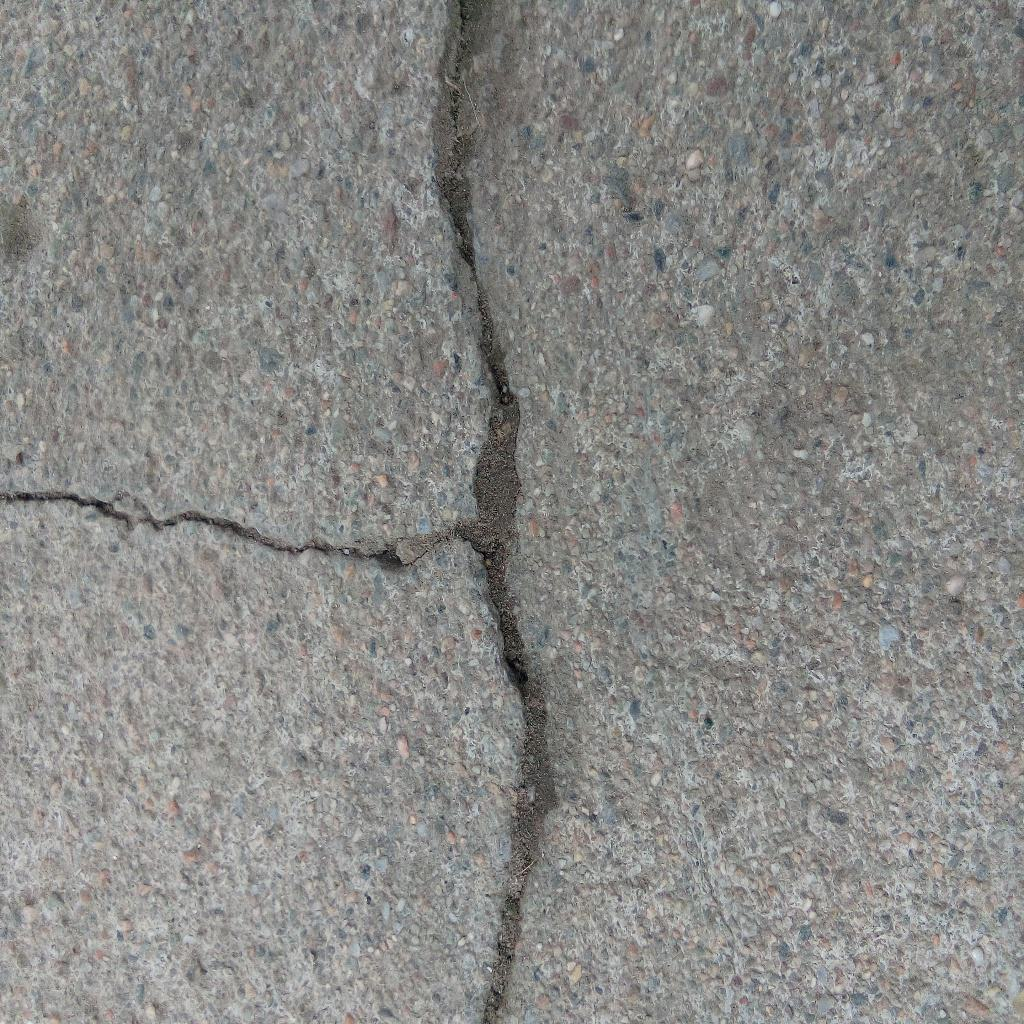Crack: (430, 1, 562, 1024)
Spalling: (1, 488, 468, 573)
